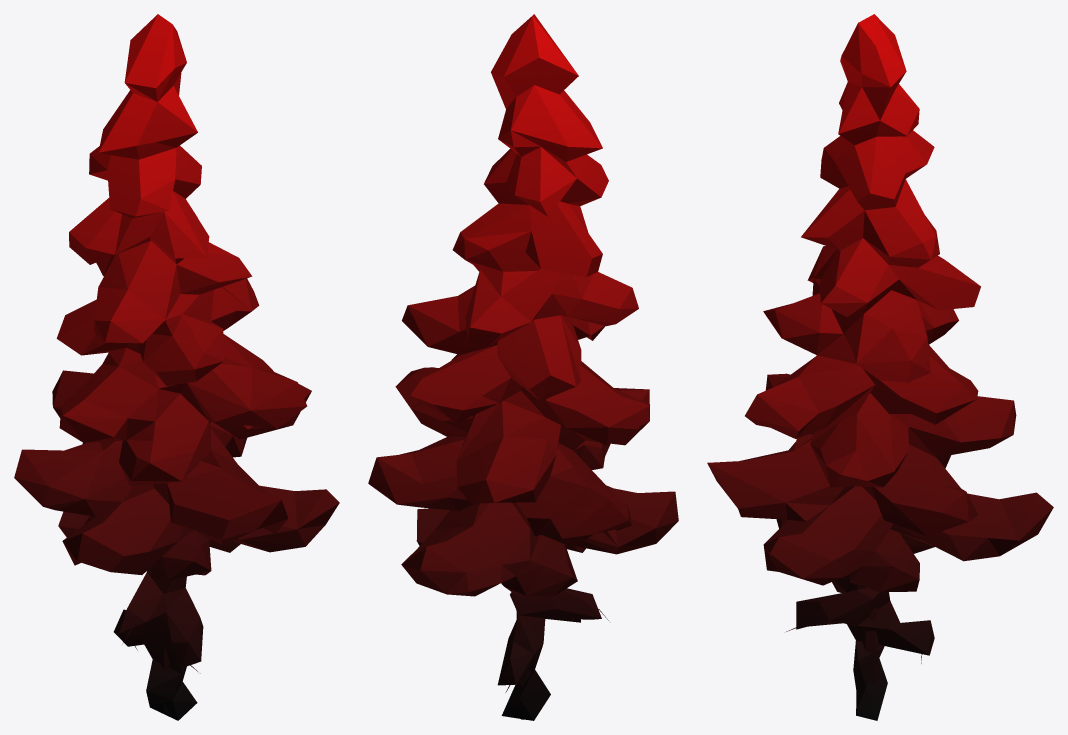
The model's file is TreeSpruce02_Snow.fbx.
3 views of the same model, side by side, from view 1: azimuth 30°, elevation 25°; view 2: azimuth 150°, elevation 25°; view 3: azimuth 270°, elevation 25° (orthographic).
Visible parts, largest first — view 1: TreeSpruce02_Snow_LOD0; view 2: TreeSpruce02_Snow_LOD0; view 3: TreeSpruce02_Snow_LOD0.
Part boxes in pixels (box(x1,y1,x2,y2)): TreeSpruce02_Snow_LOD0: box(14, 14, 339, 720); TreeSpruce02_Snow_LOD0: box(368, 14, 678, 720); TreeSpruce02_Snow_LOD0: box(707, 14, 1053, 720).
Size of what is drawn, in the model's own units: 115 by 299 by 135.
